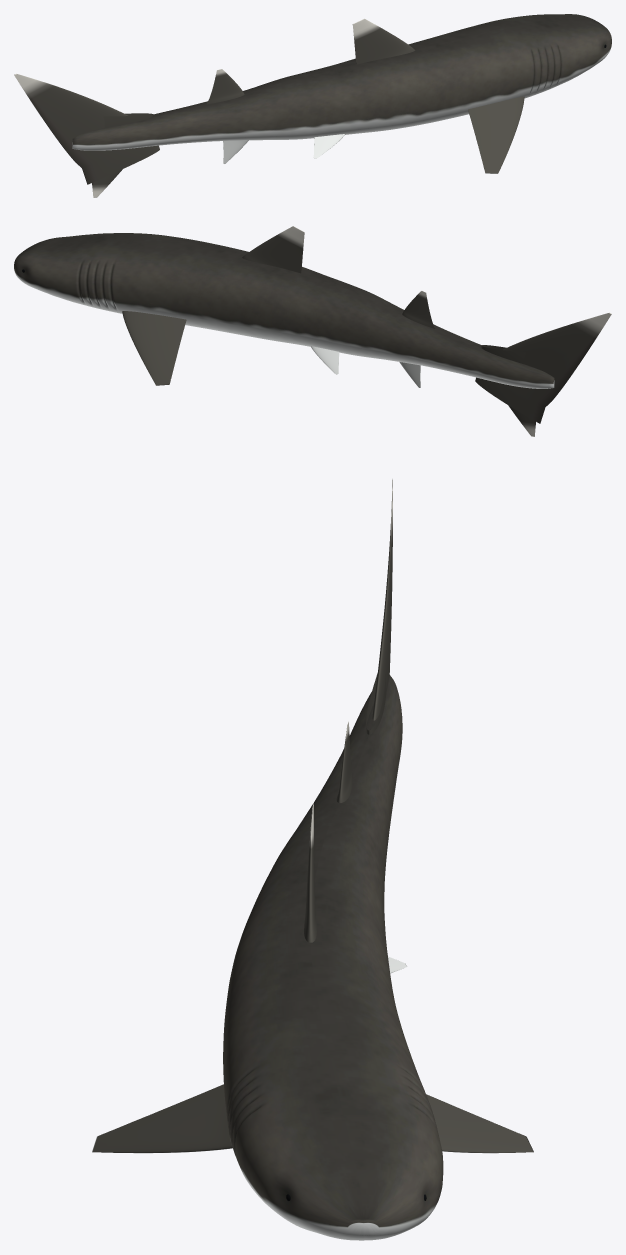
File: whitetip_reef_shark.glb
3 views of the same model, one above another, from view 1: azimuth 30°, elevation 25°; view 2: azimuth 150°, elevation 25°; view 3: azimuth 270°, elevation 25° (orthographic). The views are drawn at different scales.
Parts seen in each view (by area): view 1: WhitetipReefShark_Body, WhitetipReefShark_Fins; view 2: WhitetipReefShark_Body, WhitetipReefShark_Fins; view 3: WhitetipReefShark_Body, WhitetipReefShark_Fins.
Boxes of the visible parts, x1,y1,x2,y2 form: WhitetipReefShark_Body: [72, 14, 611, 150]; WhitetipReefShark_Fins: [14, 18, 524, 197]; WhitetipReefShark_Body: [14, 233, 554, 388]; WhitetipReefShark_Fins: [122, 226, 611, 436]; WhitetipReefShark_Body: [223, 675, 443, 1240]; WhitetipReefShark_Fins: [92, 479, 533, 1153].
Bounding box in the file's own units: 1.6 × 0.3775 × 0.5233.
3 materials, 1 textured.
